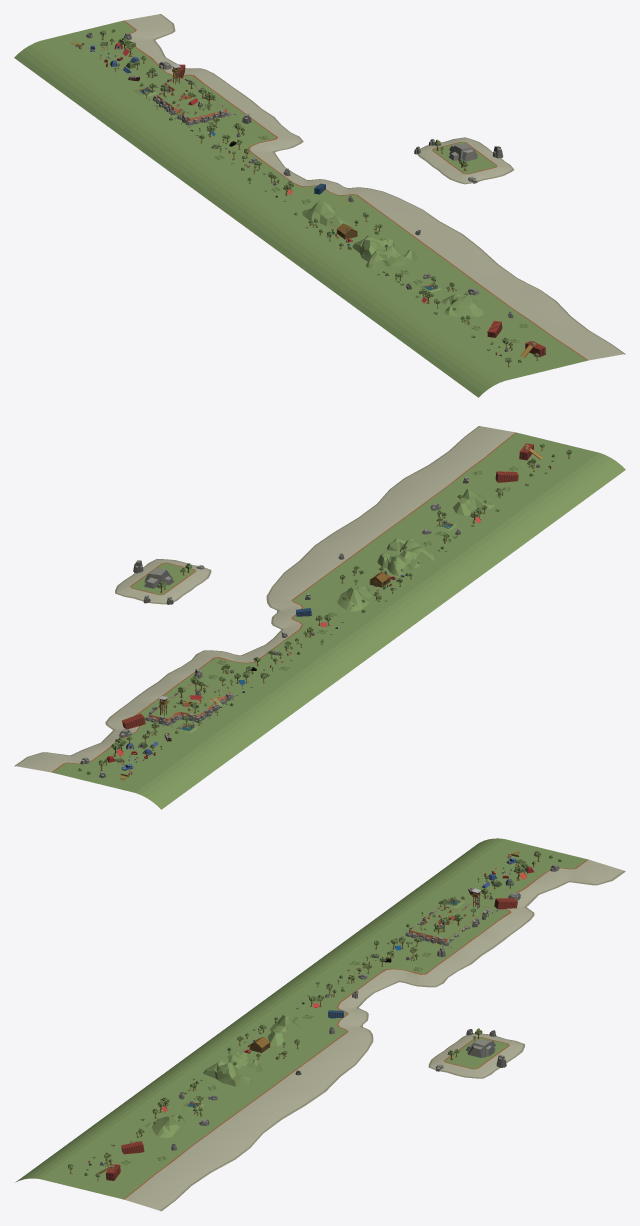
File: _lvl_beach_bg_3.glb
3 renders of one model, top to bottom at view 1: azimuth 30°, elevation 25°; view 2: azimuth 150°, elevation 25°; view 3: azimuth 330°, elevation 25°, orthographic.
Parts seen in each view (by area): view 1: bg_ground_3, bg_near_plane_beach (2), SM_Env_Hills_Pack_3, SA_Env_Island_3, SA_Env_Hill_Rocks; view 2: bg_ground_3, bg_near_plane_beach (2), SM_Env_Hills_Pack_3, SA_Env_Island_3, SA_Env_Hill_Rocks; view 3: bg_ground_3, bg_near_plane_beach (2), SA_Env_Island_3, SM_Env_Hills_Pack_3, SA_Env_Hill_Rocks.
Part boxes in pixels (<box>): bg_ground_3: <box>40,14,625,380</box>; bg_near_plane_beach (2): <box>14,41,504,397</box>; SM_Env_Hills_Pack_3: <box>302,201,483,317</box>; SA_Env_Island_3: <box>417,137,514,184</box>; SA_Env_Hill_Rocks: <box>148,78,235,127</box>; bg_ground_3: <box>14,426,599,792</box>; bg_near_plane_beach (2): <box>135,453,625,809</box>; SM_Env_Hills_Pack_3: <box>332,488,494,611</box>; SA_Env_Island_3: <box>115,559,211,604</box>; SA_Env_Hill_Rocks: <box>145,683,237,727</box>; bg_ground_3: <box>40,839,625,1211</box>; bg_near_plane_beach (2): <box>15,838,504,1182</box>; SA_Env_Island_3: <box>428,1033,524,1078</box>; SM_Env_Hills_Pack_3: <box>145,1014,307,1137</box>; SA_Env_Hill_Rocks: <box>402,902,498,947</box>.
Bounding box in the file's own units: 144 × 17.36 × 450.
Materials: 1 (1 with a texture image).
